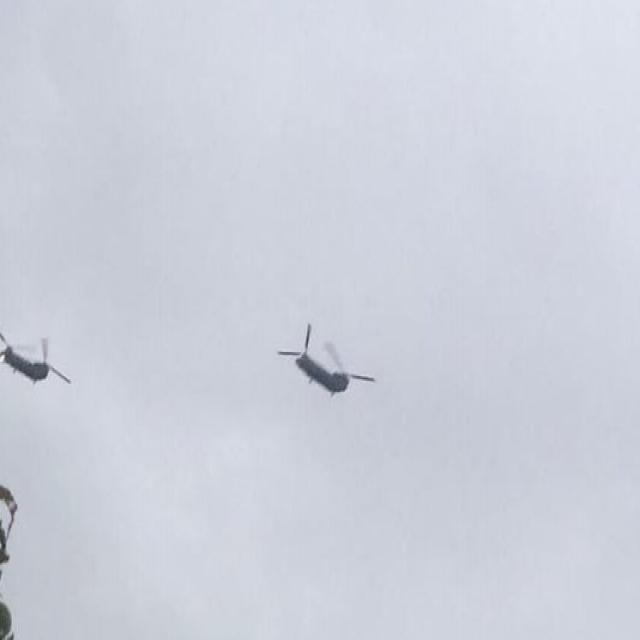helicopter: (279, 297, 377, 425), (1, 308, 75, 412)
